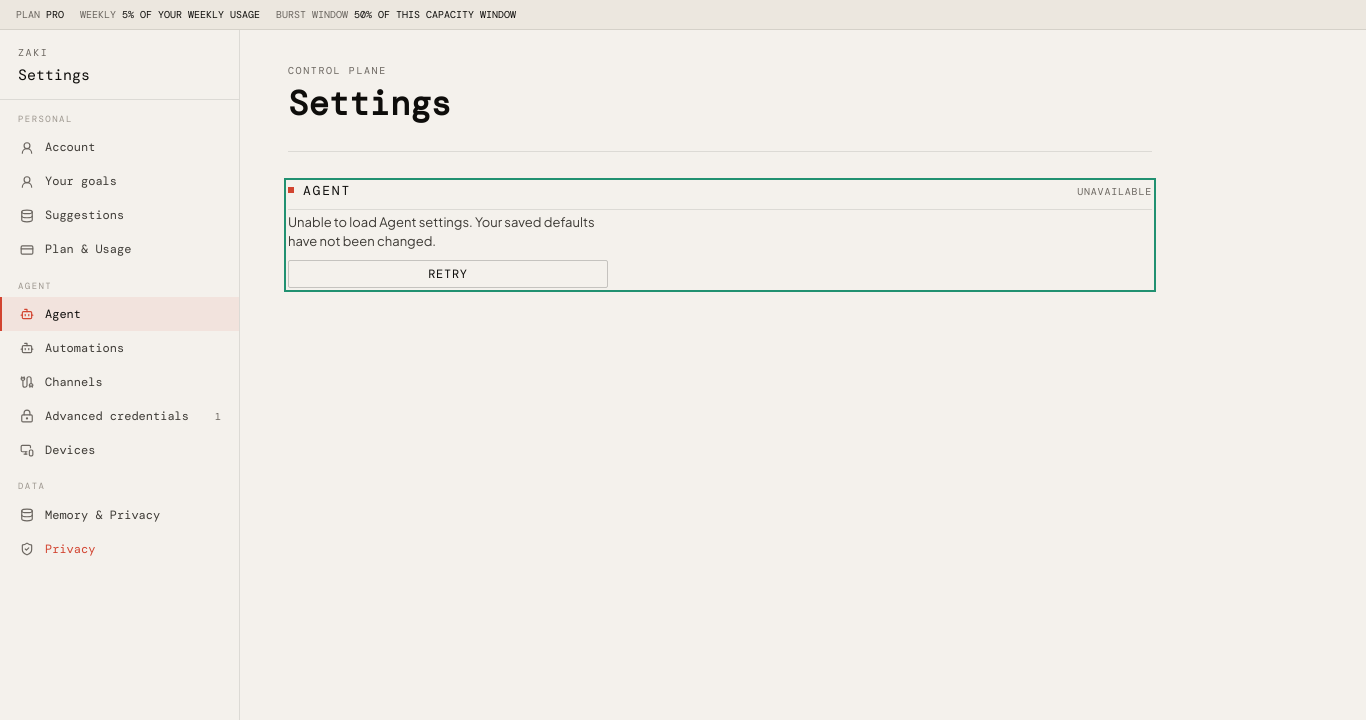
Scenario: SettingsPage › keeps Agent settings read-only until their saved profile loads
Expected: the text "Unable to load Agent settings. Your saved defaults have not been changed." is shown, top-left (288, 213), bottom-right (608, 252)
Expected: the field labelled "Autonomy" is not shown
Step 1. Click the button "Retry" → (448, 274), box top-left (288, 260), bottom-right (608, 288)
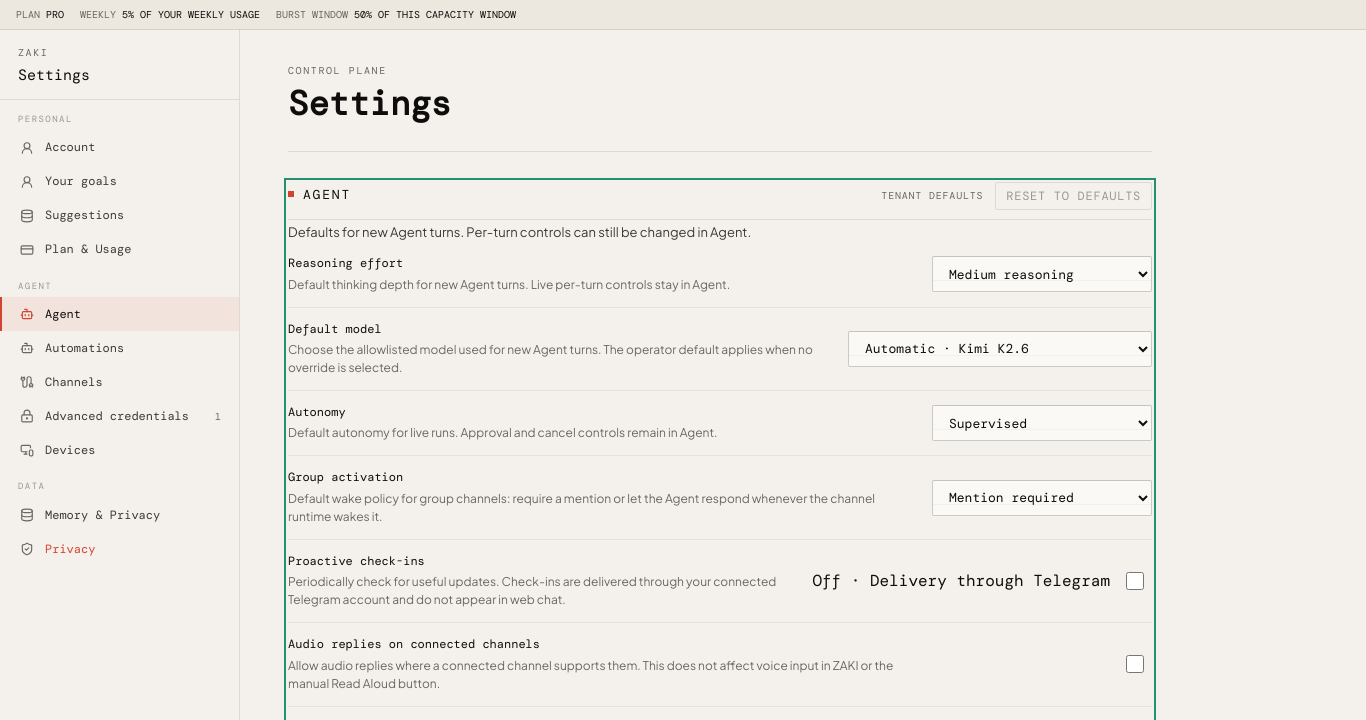
Result: the dropdown named "Autonomy" is shown at top-left (932, 405), bottom-right (1152, 441)
